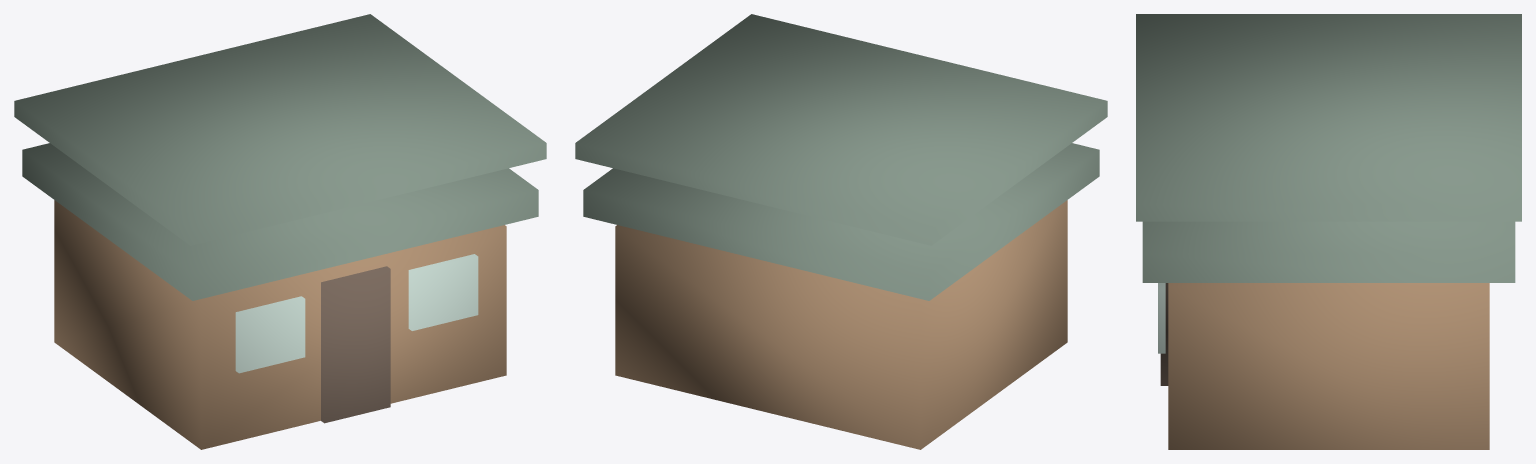
Rendered from starter_cabin.glb.
The picture shows the model from 3 angles, left to right: view 1: azimuth 30°, elevation 25°; view 2: azimuth 150°, elevation 25°; view 3: azimuth 270°, elevation 25°; orthographic projection. The views are drawn at different scales.
Size of the model in its own units: 3.5 by 2.22 by 3.
